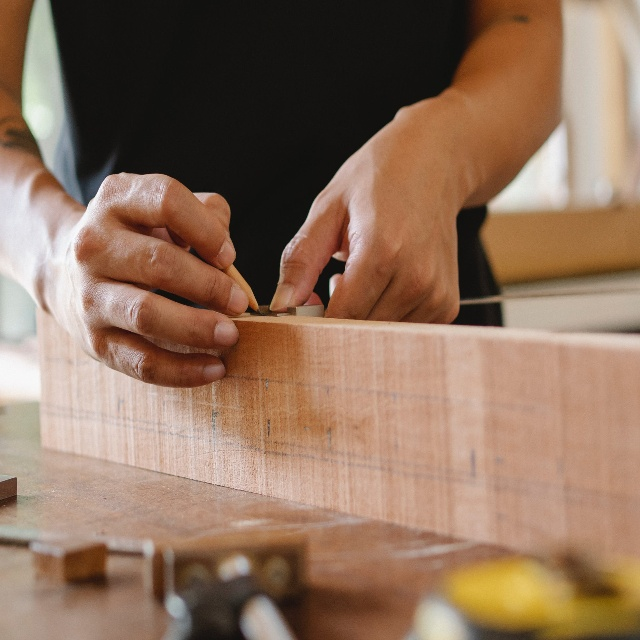Sin_guantes: (54, 171, 249, 389), (268, 104, 460, 325)
